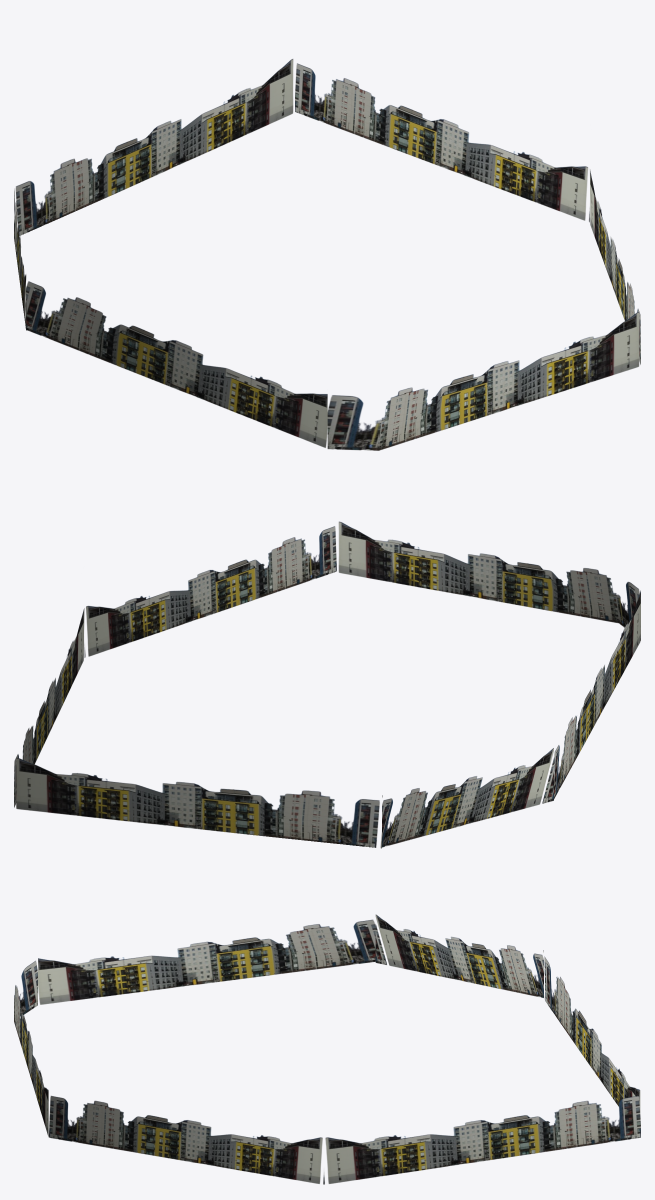
File: kp_bg_clipbuildings.glb
3 views of the same model, one above another, from view 1: azimuth 30°, elevation 25°; view 2: azimuth 150°, elevation 25°; view 3: azimuth 270°, elevation 25° (orthographic). The views are drawn at different scales.
Parts seen in each view (by area): view 1: foliage_clip_bgtrees_winter_01.004; view 2: foliage_clip_bgtrees_winter_01.004; view 3: foliage_clip_bgtrees_winter_01.004.
Boxes of the visible parts, x1,y1,x2,y2 form: foliage_clip_bgtrees_winter_01.004: [14, 59, 640, 450]; foliage_clip_bgtrees_winter_01.004: [14, 521, 640, 848]; foliage_clip_bgtrees_winter_01.004: [14, 914, 640, 1184].
Bounding box in the file's own units: 387 × 69.64 × 461.
1 material, 1 textured.
